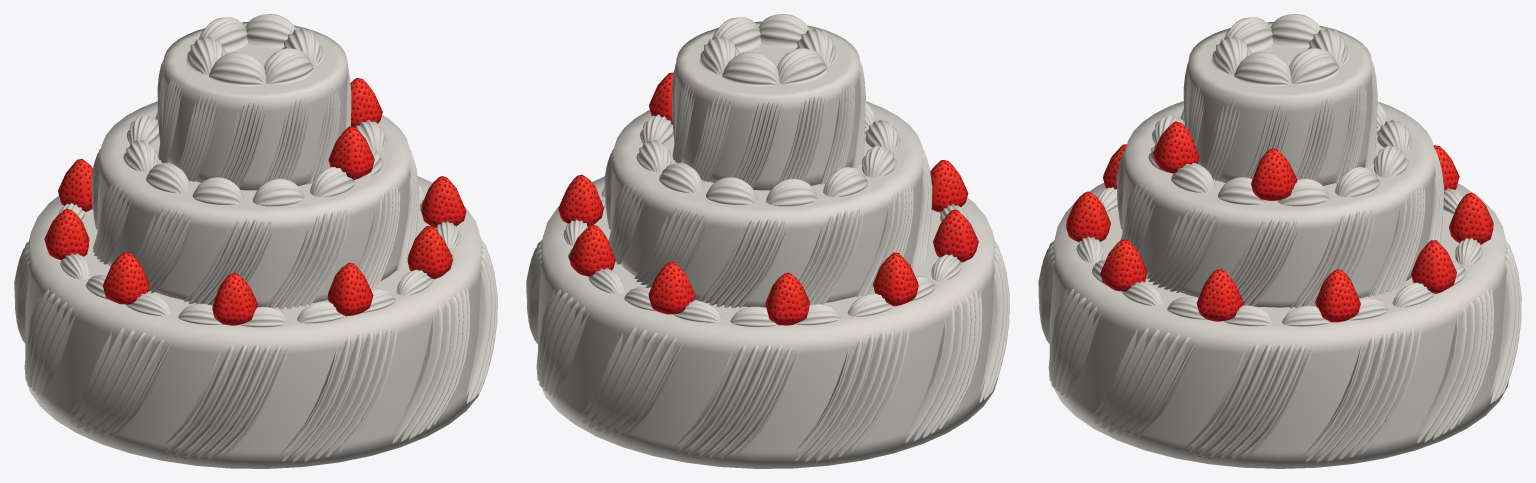
3 views of the same model, side by side, from view 1: azimuth 30°, elevation 25°; view 2: azimuth 150°, elevation 25°; view 3: azimuth 270°, elevation 25° (orthographic).
Parts seen in each view (by area): view 1: pSphere14; view 2: pSphere14; view 3: pSphere14.
Part boxes in pixels (x1=…): pSphere14: x1=14, y1=14, x2=497, y2=468; pSphere14: x1=526, y1=14, x2=1009, y2=468; pSphere14: x1=1038, y1=14, x2=1521, y2=468.
Size of the model in its own units: 32.56 by 25.1 by 32.56.
